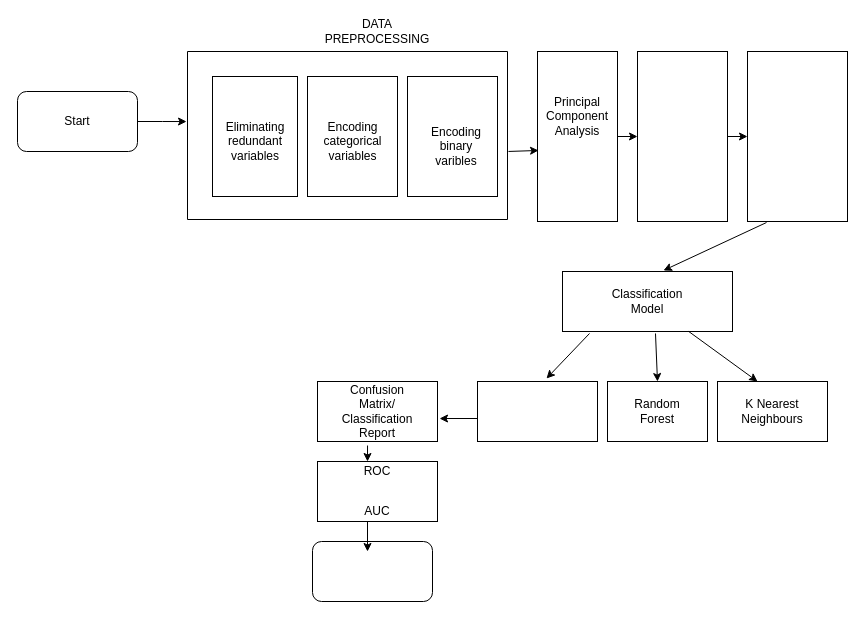
The diagram is 865 pixels wide and 619 high, and some of its shapes have lost their labels. Here are the shapes that lost their labels. From the top down, the centre of each, then its label:
the point at 682,136: Feature Extraction with Random Forest Classifier
the point at 797,136: Recursive Feature Elimination/ Feature Selector
the point at 537,411: Logistic Regression
the point at 372,571: End
